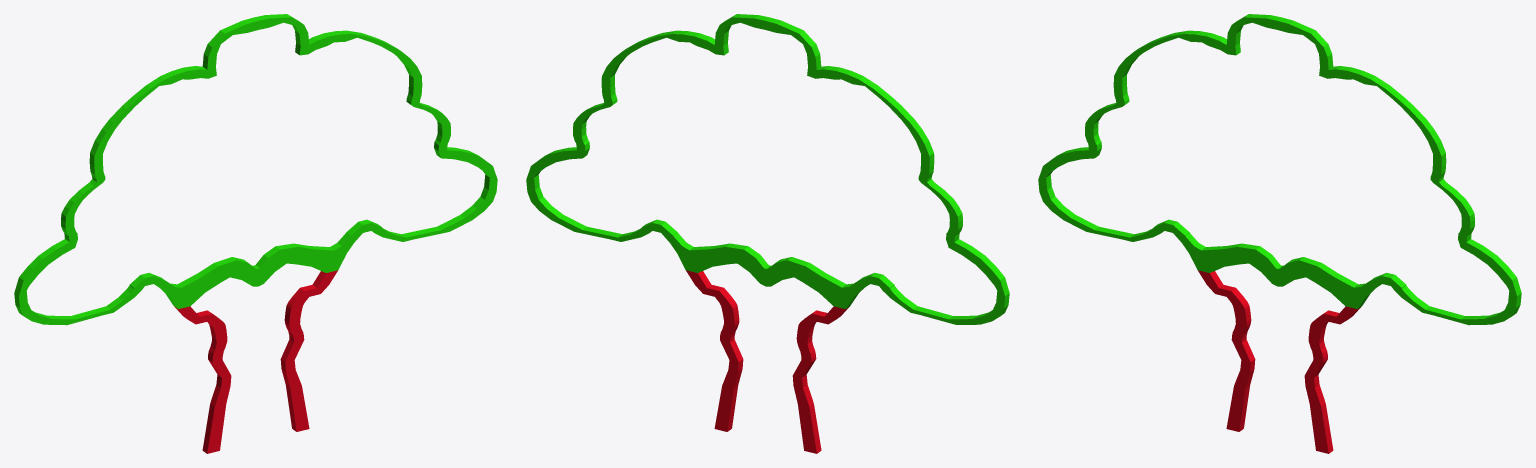
Rendered from LED_Tree.fbx.
The picture shows the model from 3 angles, left to right: view 1: azimuth 30°, elevation 25°; view 2: azimuth 150°, elevation 25°; view 3: azimuth 330°, elevation 25°; orthographic projection.
Visible parts, largest first — view 1: Cube; view 2: Cube; view 3: Cube.
Part boxes in pixels (x1,y1,x2,y2): Cube: [14, 14, 497, 453]; Cube: [526, 14, 1009, 453]; Cube: [1038, 14, 1521, 453].
Bounding box in the file's own units: 369 × 310 × 6.23.
